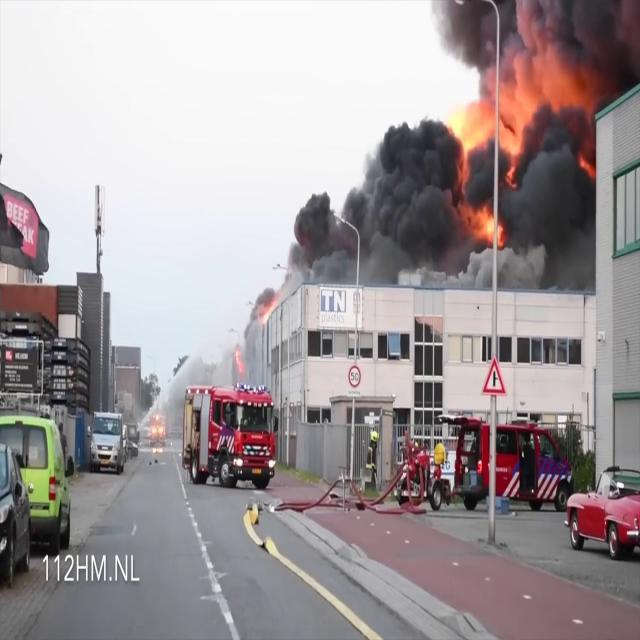Fire: (250, 288, 282, 326), (148, 413, 168, 451)
Smoke: (270, 55, 602, 276), (279, 100, 464, 293)
